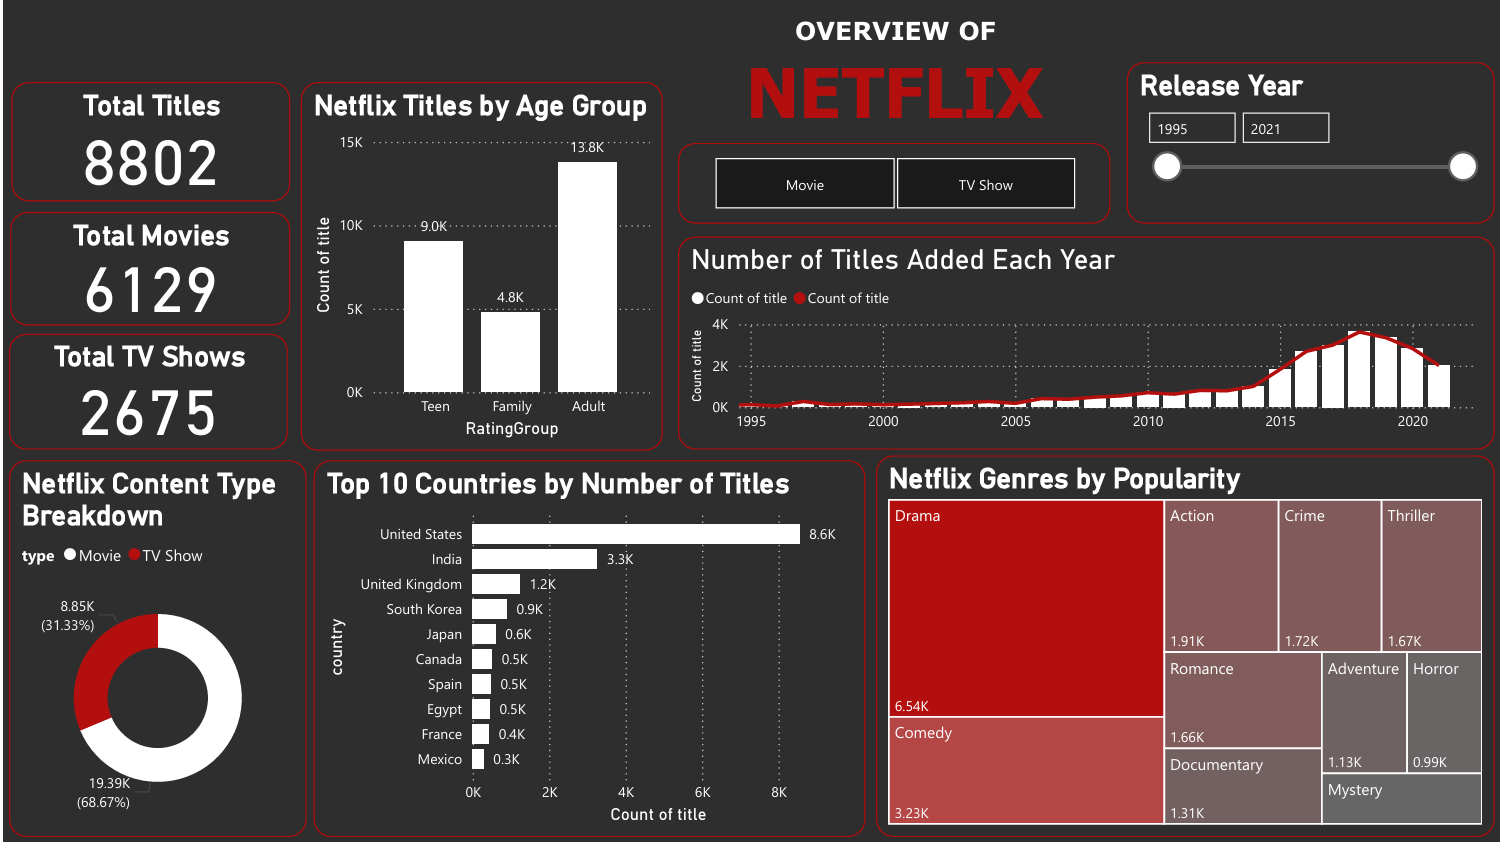

The dashboard page shown, as its layout file describes it:
{"tool":"powerbi","page":{"name":"Netflix Content Overview","canvas":[1280,720],"ordinal":0},"visuals":[{"type":"card","title":"Total Movies","fields":{"Values":["netflix_with_imdb.Total Movies"]},"box":[6.1,181,238.5,96.6],"z":0},{"type":"donutChart","title":"Netflix Content Type Breakdown","fields":{"Category":["netflix_with_imdb.type"],"Y":["CountNonNull(netflix_with_imdb.title)"]},"box":[4.9,392.5,254.3,322.8],"z":1000},{"type":"card","title":"Total TV Shows","fields":{"Values":["netflix_with_imdb.Total TV Shows"]},"box":[4.9,284.9,238.5,99],"z":2000},{"type":"card","title":"Total Titles","fields":{"Values":["Count(netflix_with_imdb.title)"]},"box":[7.3,69.7,237.2,102.7],"z":3000},{"type":"clusteredBarChart","title":"Top 10 Countries by Number of Titles","fields":{"Category":["netflix_with_imdb.country"],"Y":["CountNonNull(netflix_with_imdb.title)"]},"box":[265.4,392.5,470.8,322.8],"z":4000},{"type":"lineClusteredColumnComboChart","title":"Number of Titles Added Each Year","fields":{"Category":["netflix_with_imdb.release_year"],"Y":["CountNonNull(netflix_with_imdb.title)"],"Y2":["CountNonNull(netflix_with_imdb.title)"]},"box":[576,201.8,697,182.2],"z":5000},{"type":"slicer","fields":{"Values":["netflix_with_imdb.type"]},"box":[576,122.3,369.3,68.5],"z":6000},{"type":"slicer","title":"Release Year","fields":{"Values":["netflix_with_imdb.release_year"]},"box":[958.7,52.6,314.3,138.2],"z":7000},{"type":"treemap","title":"Netflix Genres by Popularity","fields":{"Group":["netflix_with_imdb.genres"],"Values":["CountNonNull(netflix_with_imdb.title)"]},"box":[744.7,388.9,528.3,326.5],"z":8000},{"type":"clusteredColumnChart","title":"Netflix Titles by Age Group","fields":{"Category":["netflix_with_imdb.RatingGroup"],"Y":["CountNonNull(netflix_with_imdb.title)"]},"box":[254.3,69.7,308.2,315.5],"z":9000},{"type":"textbox","box":[653.2,8.2,216.8,46.7],"z":10000},{"type":"textbox","box":[621.2,41.6,280,77],"z":11000}]}

Visuals, with their boxes in screenshot pixels (x1, y1, x2, y2), scaled from the page's 1280x720 canvas onto the 1500x842 screenshot:
"Total Movies" card: region(7, 212, 287, 325)
"Netflix Content Type Breakdown" donutChart: region(6, 459, 304, 837)
"Total TV Shows" card: region(6, 333, 285, 449)
"Total Titles" card: region(9, 82, 287, 202)
"Top 10 Countries by Number of Titles" clusteredBarChart: region(311, 459, 863, 837)
"Number of Titles Added Each Year" lineClusteredColumnComboChart: region(675, 236, 1492, 449)
slicer - netflix_with_imdb.type: region(675, 143, 1108, 223)
"Release Year" slicer: region(1123, 62, 1492, 223)
"Netflix Genres by Popularity" treemap: region(873, 455, 1492, 837)
"Netflix Titles by Age Group" clusteredColumnChart: region(298, 82, 659, 450)
textbox: region(765, 10, 1020, 64)
textbox: region(728, 49, 1056, 139)
